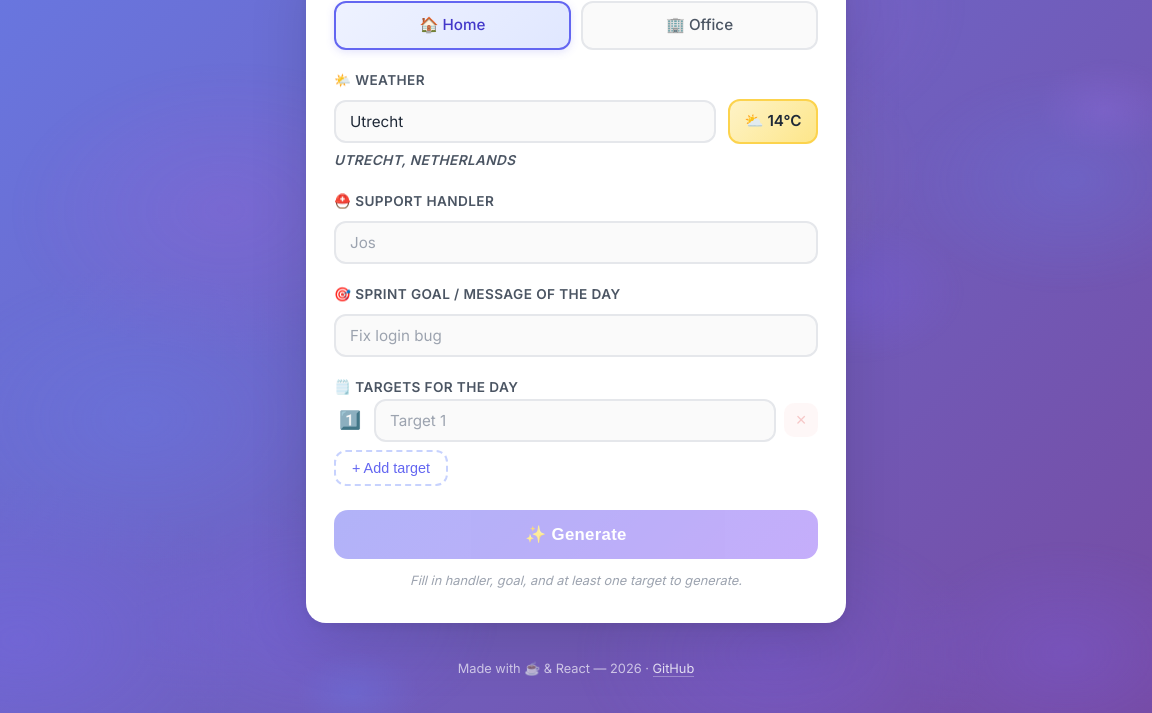
Test case: App – integration › adds and removes targets
(page scrolled)
Check: the number of fields with placeholder "Target 1" is 1, box [374, 399, 776, 442]
// Add two more
Click the button "+ Add target": point(391, 468) [334, 450, 448, 486]
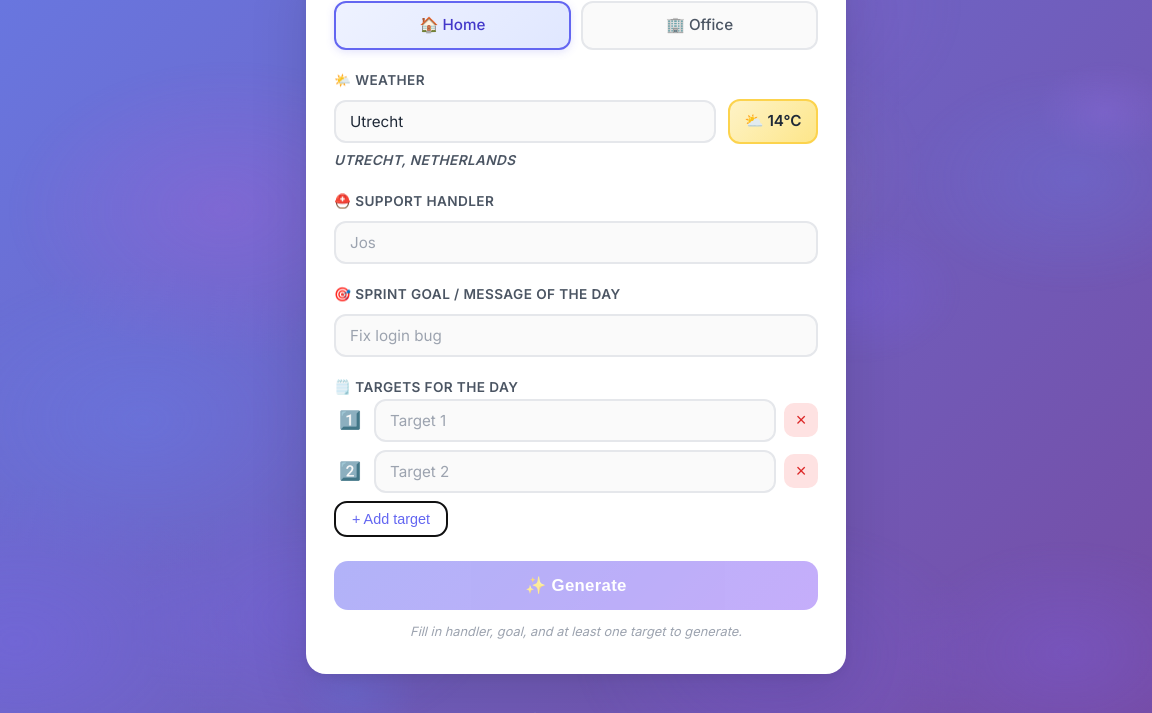
Click the button "+ Add target": point(391, 519) [334, 501, 448, 537]
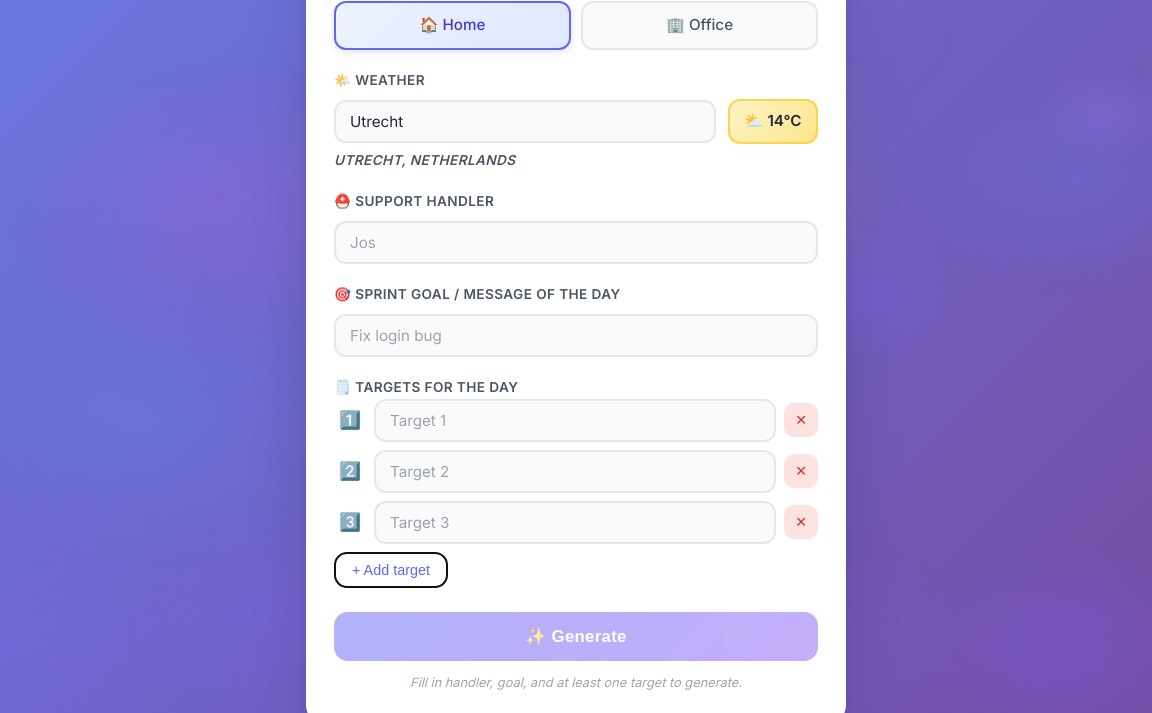
Check: the number of fields with placeholder "Target 1" is 3, box [374, 399, 776, 442]; [374, 450, 776, 493]; [374, 501, 776, 544]
// Remove one
Click the button titled "Remove target" in the row of "3️⃣": point(801, 522) [784, 505, 818, 539]
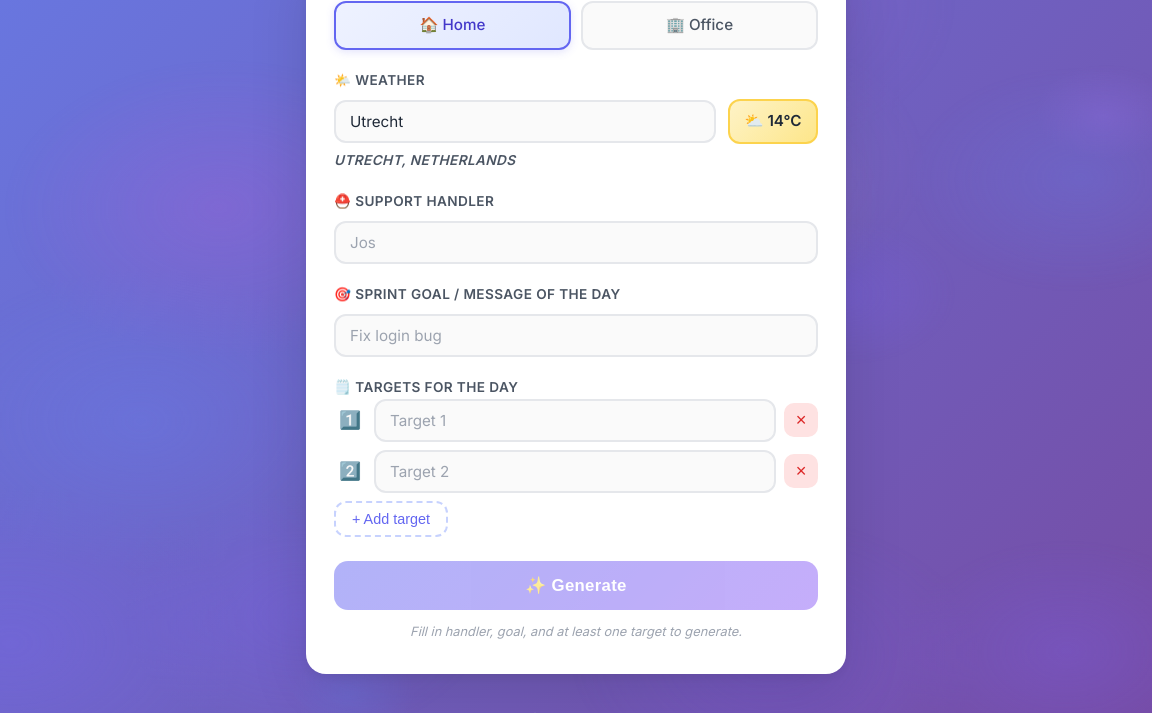
Check: the number of fields with placeholder "Target 1" is 2, box [374, 399, 776, 442]; [374, 450, 776, 493]
